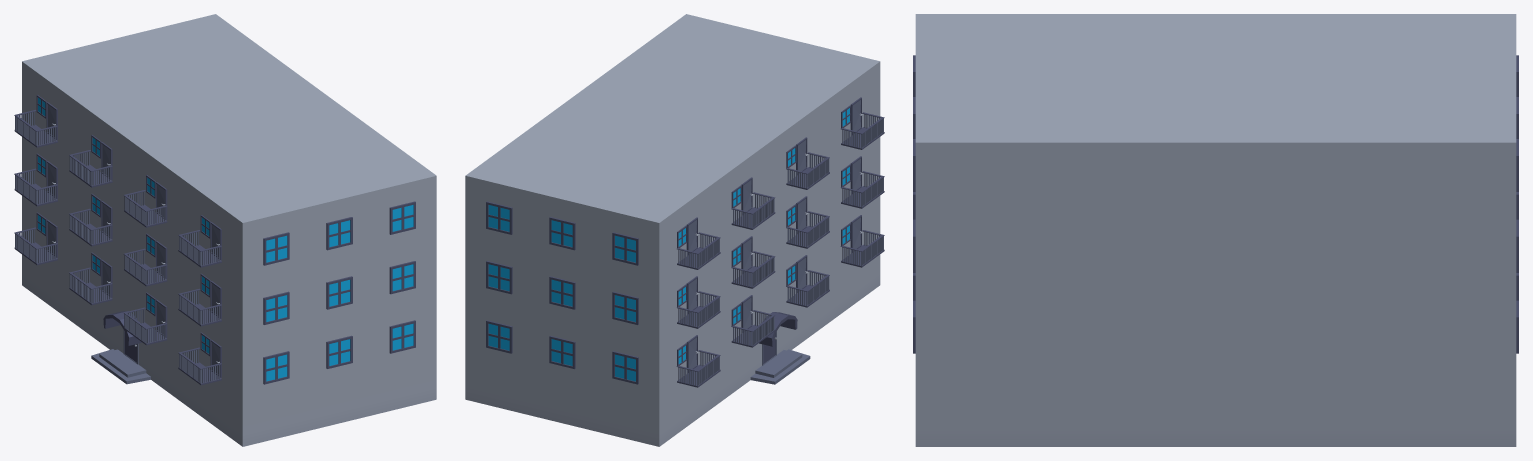
The model's file is F_House_002.fbx.
3 renders of one model, left to right at view 1: azimuth 30°, elevation 25°; view 2: azimuth 150°, elevation 25°; view 3: azimuth 270°, elevation 25°, orthographic. The views are drawn at different scales.
Parts seen in each view (by area): view 1: F_House_002; view 2: F_House_002; view 3: F_House_002.
Part boxes in pixels (left/top/right/bottom): F_House_002: left=14, top=14, right=436, bottom=446; F_House_002: left=465, top=14, right=884, bottom=446; F_House_002: left=913, top=14, right=1518, bottom=446.
Bounding box in the file's own units: 1764 × 1738 × 3136.
